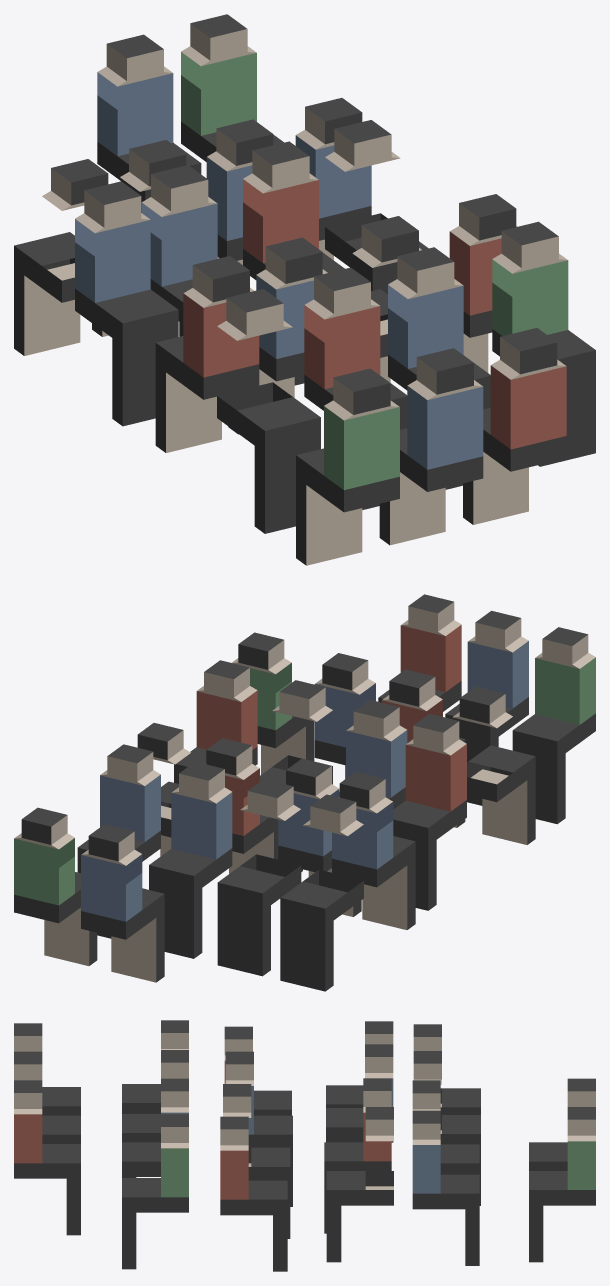
The model's file is seated-passengers.dae.
The picture shows the model from 3 angles, top to bottom: view 1: azimuth 30°, elevation 25°; view 2: azimuth 150°, elevation 25°; view 3: azimuth 270°, elevation 25°; orthographic projection. The views are drawn at different scales.
Parts seen in each view (by area): view 1: Plane_020_008, Plane_020_012, Plane_020_013, Plane_020_014, Plane_020_017, Plane_020_004, Plane_020_007, Plane_020_020, Plane_020_002, Plane_020_006, Plane_020_003, Plane_020_005 (+9 smaller); view 2: Plane_020_022, Plane_020_012, Plane_020_002, Plane_020_017, Plane_020_003, Plane_020_008, Plane_020_021, Plane_020_020, Plane_020_007, Plane_020_013, Plane_020_004, Plane_020_023 (+9 smaller); view 3: Plane_020_016, Plane_020_023, Plane_020_003, Plane_020_014, Plane_020_004, Plane_020_011, Plane_020_010, Plane_020_019, Plane_020_018, Plane_020_009, Plane_020_005, Plane_020_021 (+9 smaller).
Part boxes in pixels (left/top/right/bottom): Plane_020_008: left=75, top=181, right=178, bottom=426; Plane_020_012: left=296, top=368, right=399, bottom=565; Plane_020_013: left=379, top=348, right=483, bottom=545; Plane_020_014: left=463, top=328, right=566, bottom=524; Plane_020_017: left=155, top=256, right=259, bottom=452; Plane_020_004: left=492, top=221, right=595, bottom=466; Plane_020_007: left=217, top=289, right=320, bottom=533; Plane_020_020: left=14, top=159, right=108, bottom=355; Plane_020_002: left=97, top=34, right=201, bottom=212; Plane_020_006: left=304, top=267, right=407, bottom=509; Plane_020_003: left=181, top=14, right=283, bottom=161; Plane_020_005: left=388, top=247, right=490, bottom=489; Plane_020_022: left=149, top=761, right=232, bottom=958; Plane_020_012: left=512, top=627, right=595, bottom=824; Plane_020_002: left=81, top=824, right=164, bottom=982; Plane_020_017: left=393, top=713, right=466, bottom=910; Plane_020_003: left=14, top=807, right=97, bottom=965; Plane_020_008: left=332, top=771, right=415, bottom=929; Plane_020_021: left=217, top=779, right=301, bottom=976; Plane_020_020: left=280, top=794, right=363, bottom=991; Plane_020_007: left=452, top=686, right=535, bottom=844; Plane_020_013: left=445, top=610, right=528, bottom=805; Plane_020_004: left=232, top=632, right=314, bottom=774; Plane_020_023: left=77, top=744, right=160, bottom=938; Plane_020_016: left=220, top=1116, right=287, bottom=1271; Plane_020_023: left=412, top=1110, right=479, bottom=1265; Plane_020_003: left=529, top=1107, right=595, bottom=1262; Plane_020_014: left=14, top=1080, right=80, bottom=1235; Plane_020_004: left=122, top=1114, right=188, bottom=1269; Plane_020_011: left=326, top=1107, right=393, bottom=1262; Plane_020_010: left=324, top=1078, right=391, bottom=1233; Plane_020_019: left=225, top=1051, right=292, bottom=1206; Plane_020_018: left=223, top=1084, right=290, bottom=1238; Plane_020_009: left=326, top=1044, right=393, bottom=1142; Plane_020_005: left=122, top=1078, right=188, bottom=1177; Plane_020_021: left=413, top=1051, right=480, bottom=1205.
Bounding box in the file's own units: 1.49 × 3.24 × 0.8688.
